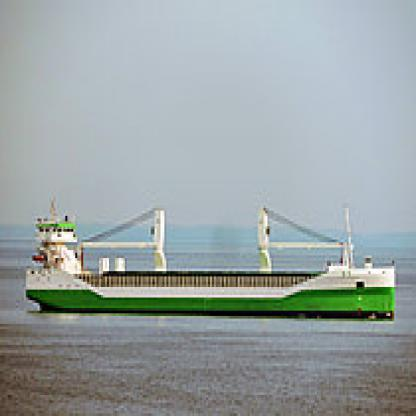Container Ship: (23, 194, 397, 321)
